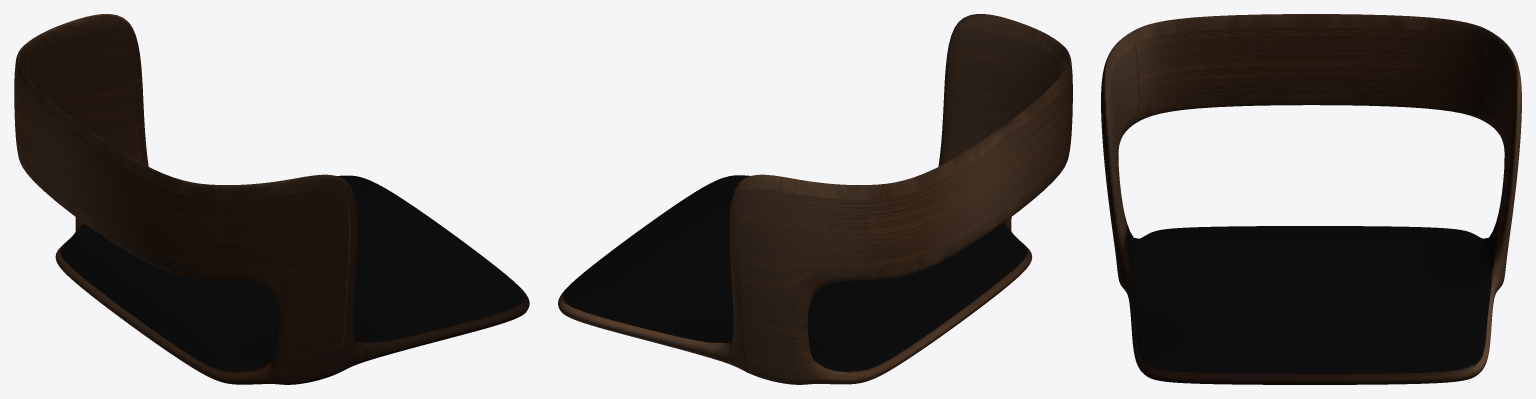
3 renders of one model, left to right at view 1: azimuth 30°, elevation 25°; view 2: azimuth 150°, elevation 25°; view 3: azimuth 270°, elevation 25°, orthographic. The views are drawn at different scales.
Visible parts, largest first — view 1: Room; view 2: Room; view 3: Room.
Boxes of the visible parts, x1,y1,x2,y2 form: Room: (14, 14, 529, 384); Room: (558, 14, 1072, 384); Room: (1101, 14, 1521, 384).
Bounding box in the file's own units: 4.9 × 2.68 × 5.
1 material, 1 textured.
